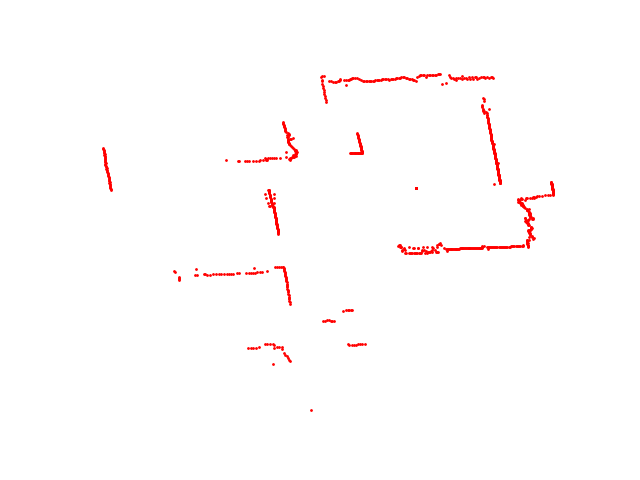person: (318, 306, 357, 325)
